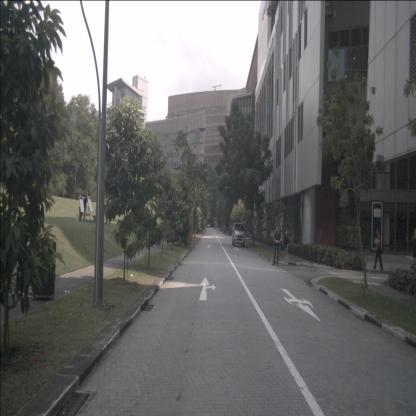human-pedestrian-adult: (373, 229, 383, 270), (272, 225, 281, 266), (282, 229, 290, 266), (79, 191, 88, 221), (82, 191, 88, 222), (412, 228, 416, 269)
vehicle-car: (232, 223, 246, 247)
